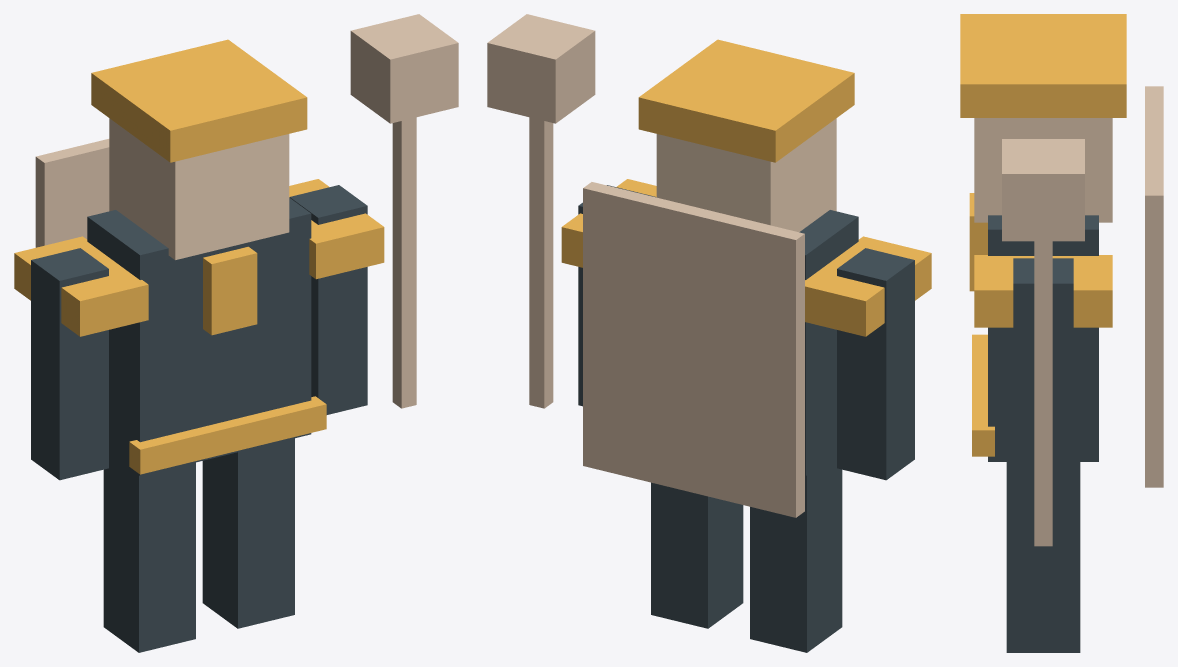
Rendered from 01_ossa_chromabell_warden_under_relay.glb.
3 renders of one model, left to right at view 1: azimuth 30°, elevation 25°; view 2: azimuth 150°, elevation 25°; view 3: azimuth 270°, elevation 25°, orthographic. The views are drawn at different scales.
Parts seen in each view (by area): view 1: Ossa Chromabell, Warden under Relay; view 2: Ossa Chromabell, Warden under Relay; view 3: Ossa Chromabell, Warden under Relay.
Part boxes in pixels (<box>): Ossa Chromabell, Warden under Relay: <box>14,14,458,652</box>; Ossa Chromabell, Warden under Relay: <box>487,14,931,652</box>; Ossa Chromabell, Warden under Relay: <box>960,14,1163,652</box>.
Bounding box in the file's own units: 1.12 × 1.46 × 0.4755.
